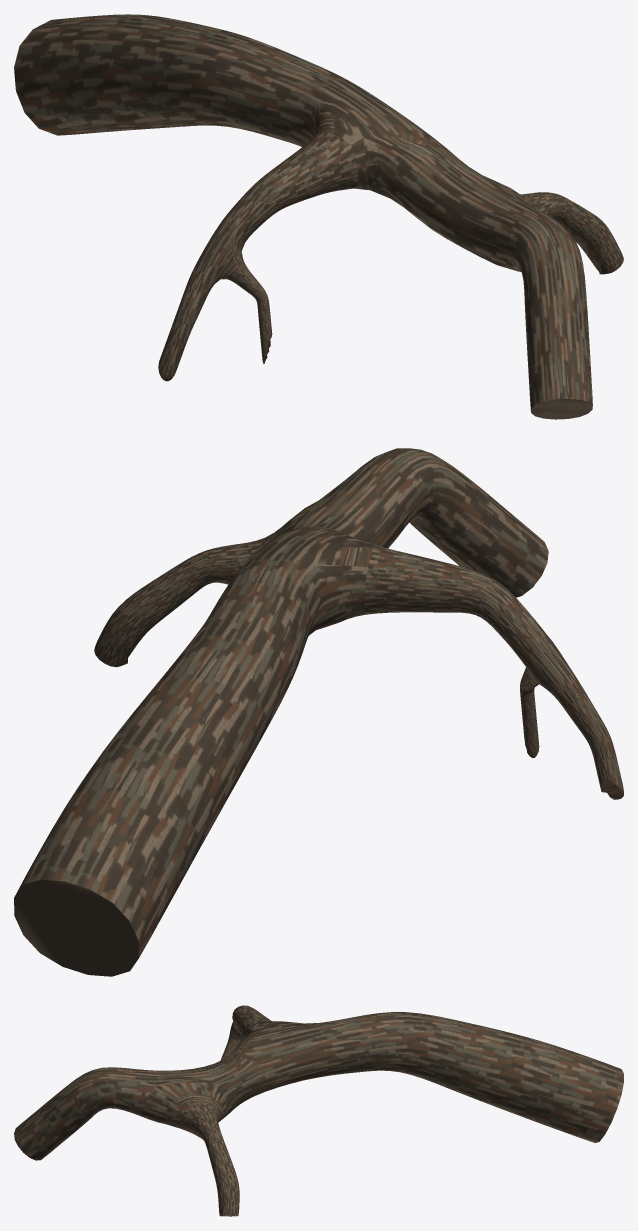
The model's file is tree.fbx.
3 renders of one model, top to bottom at view 1: azimuth 30°, elevation 25°; view 2: azimuth 150°, elevation 25°; view 3: azimuth 270°, elevation 25°, orthographic. The views are drawn at different scales.
Parts seen in each view (by area): view 1: Tree; view 2: Tree; view 3: Tree.
Boxes of the visible parts, x1,y1,x2,y2 form: Tree: [14, 14, 623, 419]; Tree: [14, 448, 623, 976]; Tree: [14, 1005, 623, 1216].
Size of the model in its own units: 1.56 by 0.6583 by 2.73.
